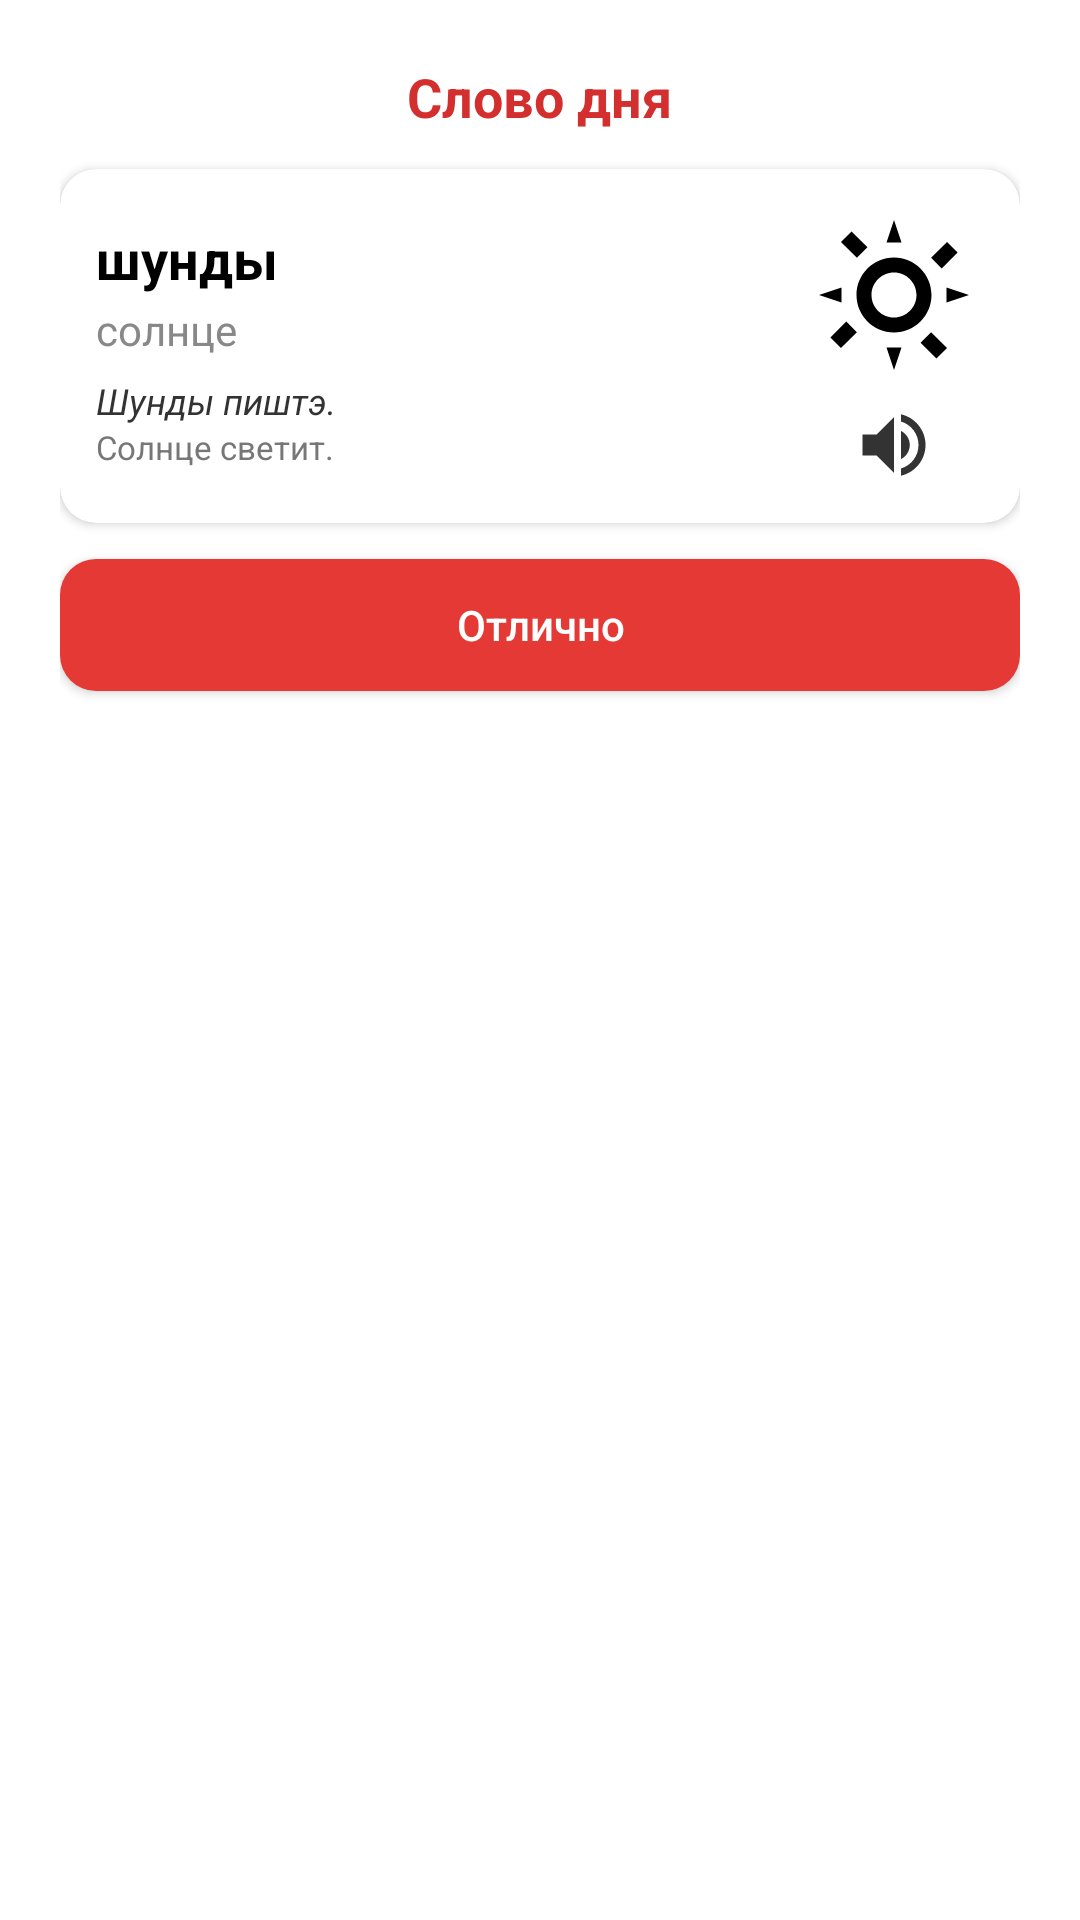

Icon bounding boxes for this 1080px×1920px phone screenshot, format (x1, y1, x2, y2):
sound: (862, 414, 926, 476)
